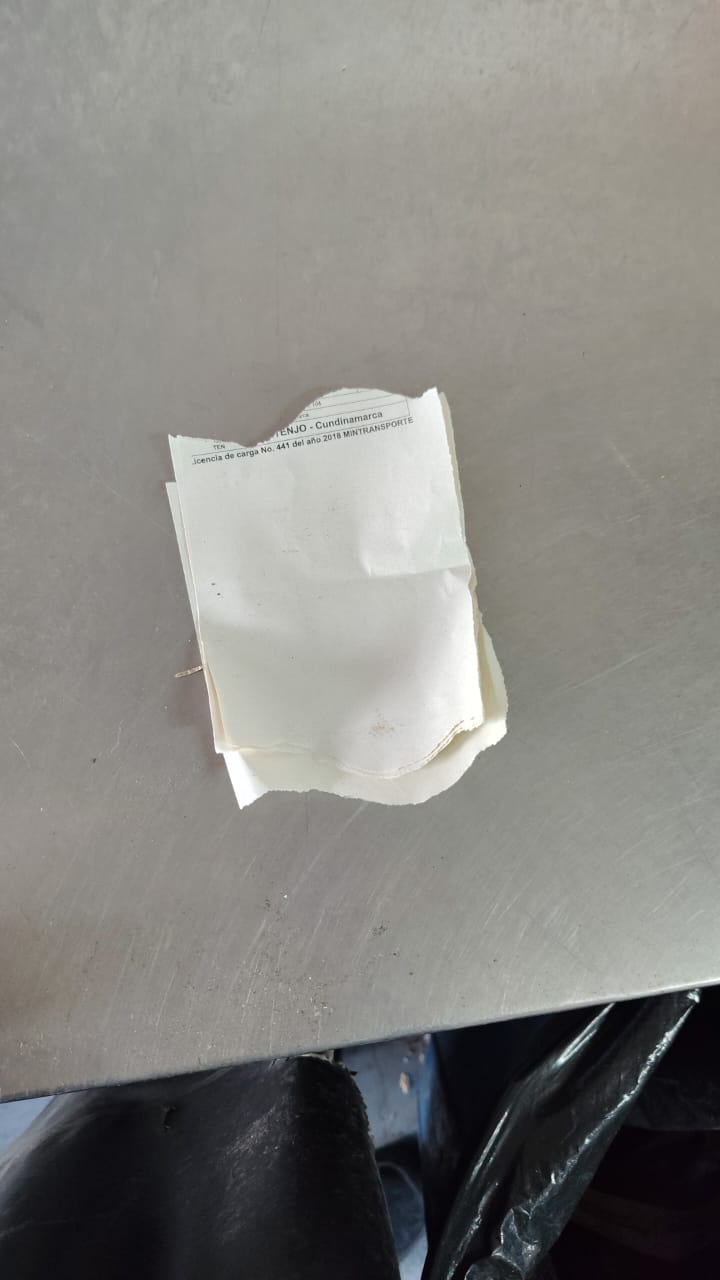Papel: (162, 380, 514, 810)
